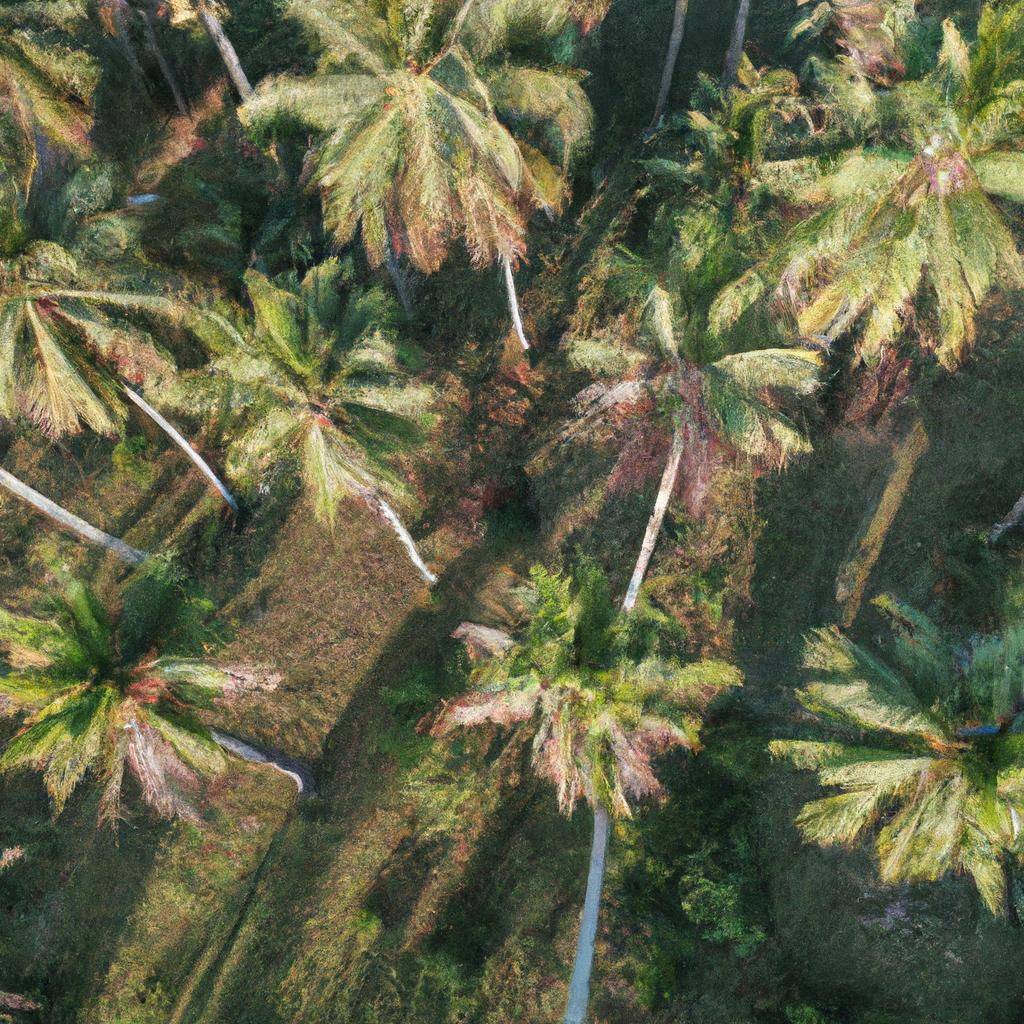coconut_tree: (757, 561, 1022, 940), (250, 0, 580, 291), (0, 559, 340, 832), (435, 539, 748, 826), (759, 39, 1023, 342), (175, 259, 432, 516)
